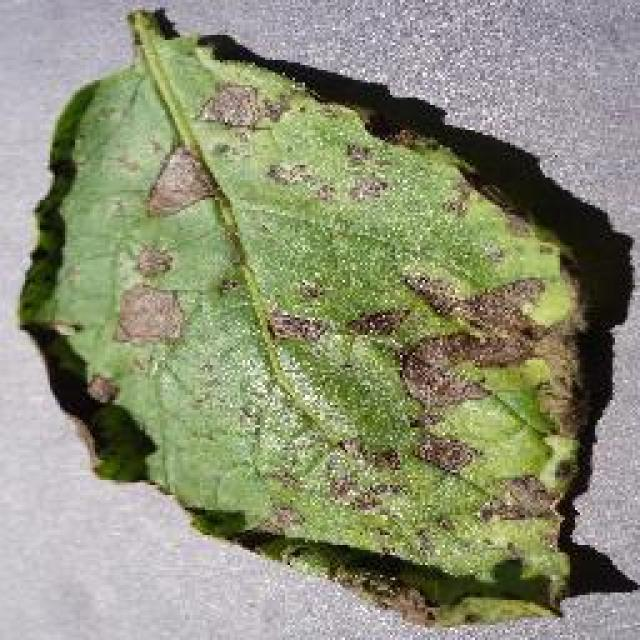Potato___Early_blight: (10, 9, 593, 632)
